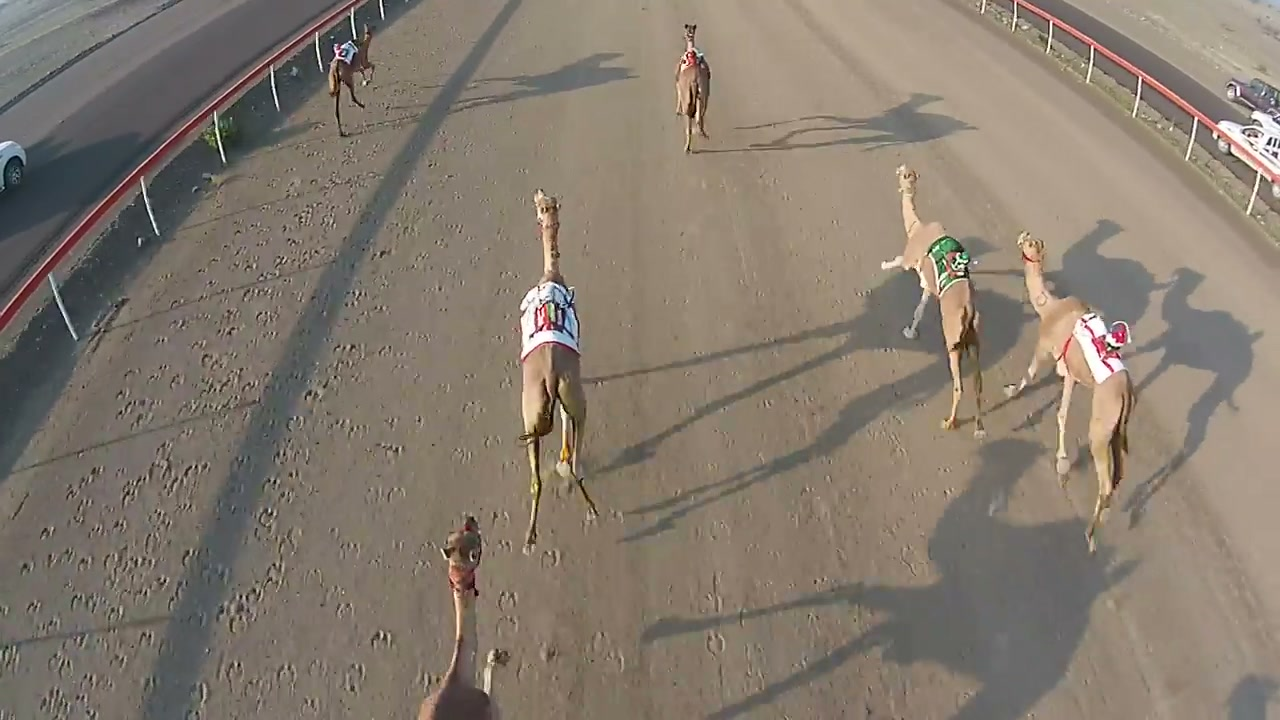animal_foot_print: (18, 155, 388, 719)
